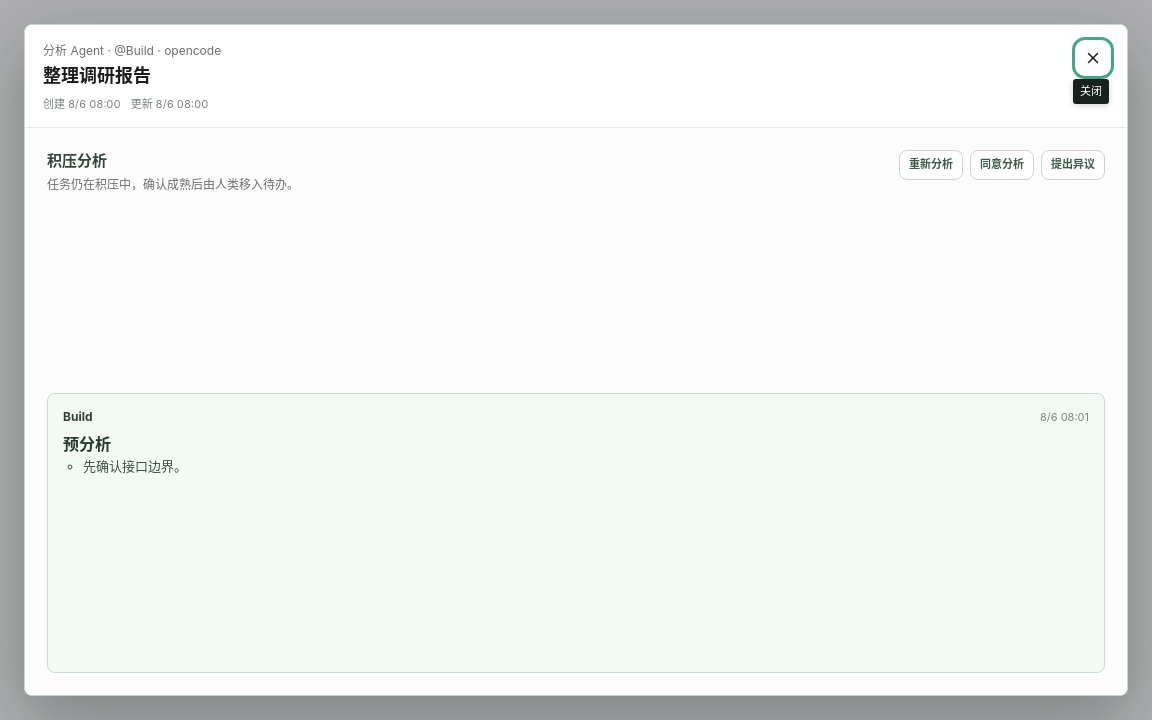
TaskDetailDialog › shows backlog analysis as a comment thread and lets a human respond
Expected: the heading "积压分析" is shown, [47, 150, 107, 170]
Expected: the heading "预分析" is shown, [63, 434, 111, 454]
Click the button "同意分析" at {"x": 1002, "y": 164}, box [970, 150, 1034, 180]
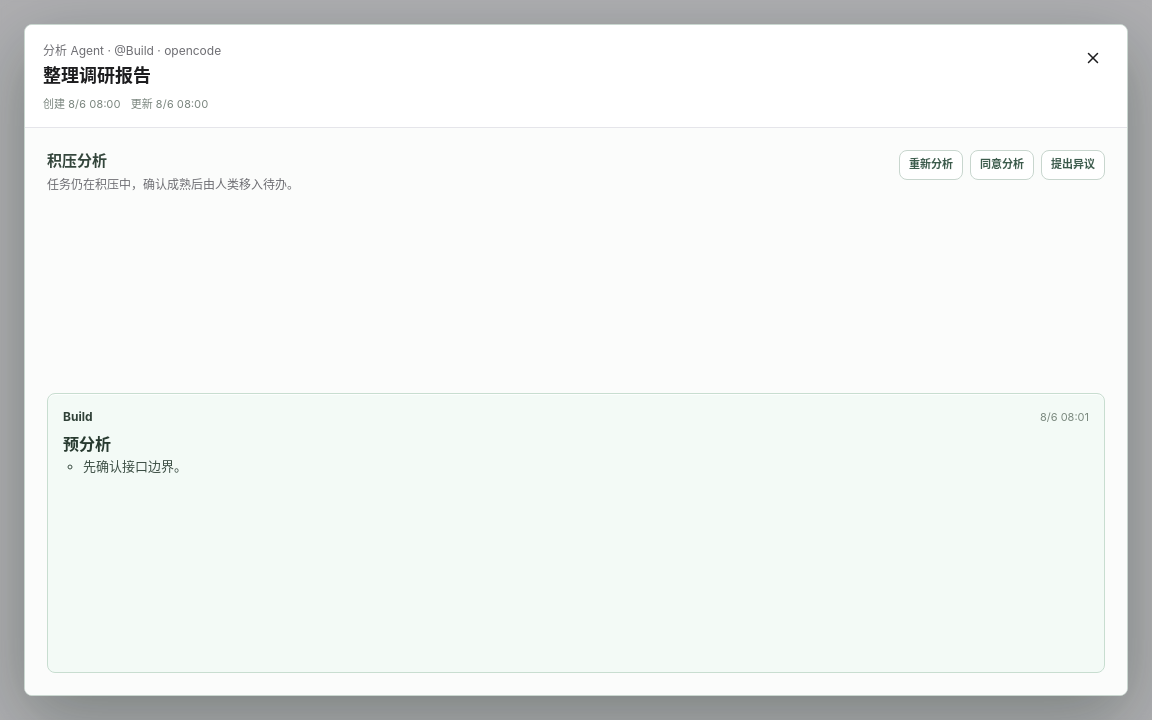
Click the button "重新分析" at {"x": 931, "y": 164}, box [899, 150, 963, 180]
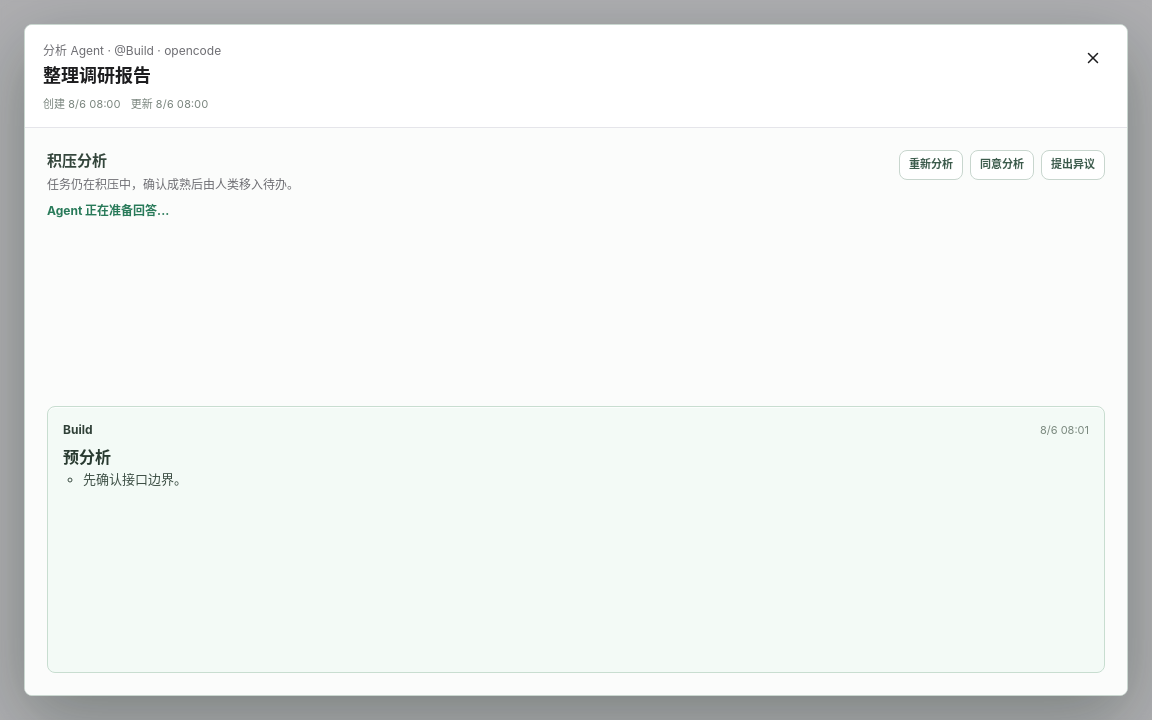
Result: the text "Agent 正在准备回答..." is shown at [47, 203, 169, 218]
